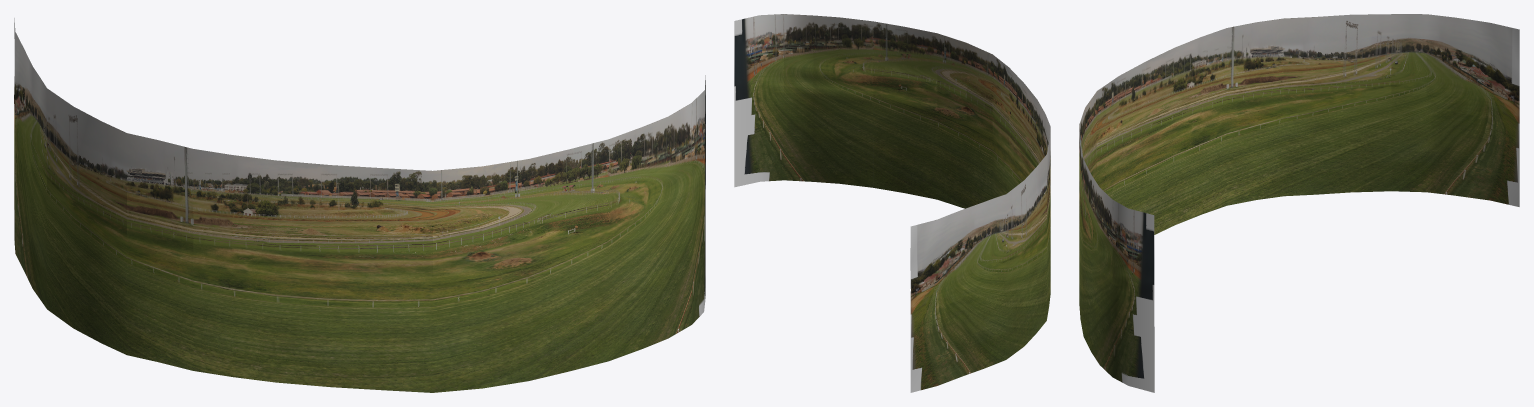
File: NewCornerTower.fbx
The picture shows the model from 3 angles, left to right: view 1: azimuth 30°, elevation 25°; view 2: azimuth 150°, elevation 25°; view 3: azimuth 270°, elevation 25°; orthographic projection. The views are drawn at different scales.
Parts seen in each view (by area): view 1: Corner_Tower:NewCornerTowerStart; view 2: Corner_Tower:NewCornerTowerStart; view 3: Corner_Tower:NewCornerTowerStart.
Boxes of the visible parts, left/top/right/bottom form: Corner_Tower:NewCornerTowerStart: left=14, top=18, right=705, bottom=392; Corner_Tower:NewCornerTowerStart: left=734, top=14, right=1050, bottom=392; Corner_Tower:NewCornerTowerStart: left=1079, top=14, right=1519, bottom=392.
Size of the model in its own units: 43.42 by 18.57 by 40.51.
